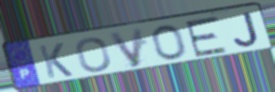E: (183, 14, 229, 59)
J: (232, 11, 261, 48)
K: (37, 41, 75, 80)
O: (150, 23, 188, 61), (75, 36, 113, 74)
V: (107, 26, 145, 69)
